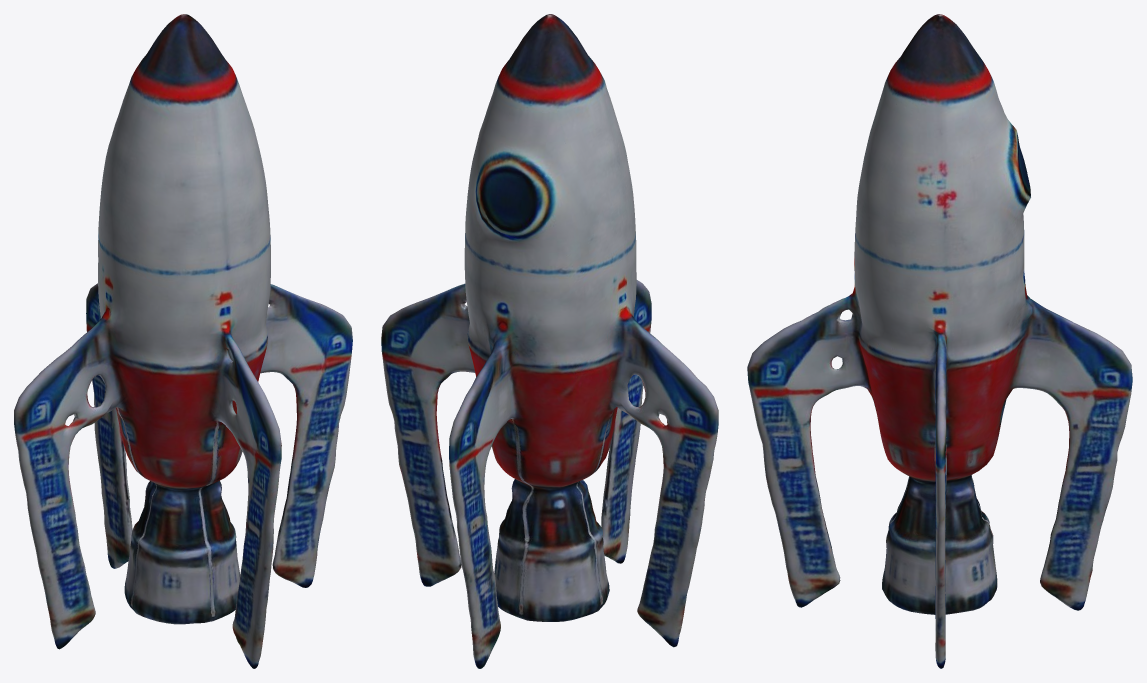
The picture shows the model from 3 angles, left to right: view 1: azimuth 30°, elevation 25°; view 2: azimuth 150°, elevation 25°; view 3: azimuth 270°, elevation 25°; orthographic projection.
Visible parts, largest first — view 1: mesh_base_material_0; view 2: mesh_base_material_0; view 3: mesh_base_material_0.
Boxes of the visible parts, x1,y1,x2,y2 form: mesh_base_material_0: (14, 14, 352, 668); mesh_base_material_0: (381, 14, 718, 668); mesh_base_material_0: (747, 14, 1132, 668).
Size of the model in its own units: 0.5833 by 0.9971 by 0.5846.
Materials: 1 (1 with a texture image).
